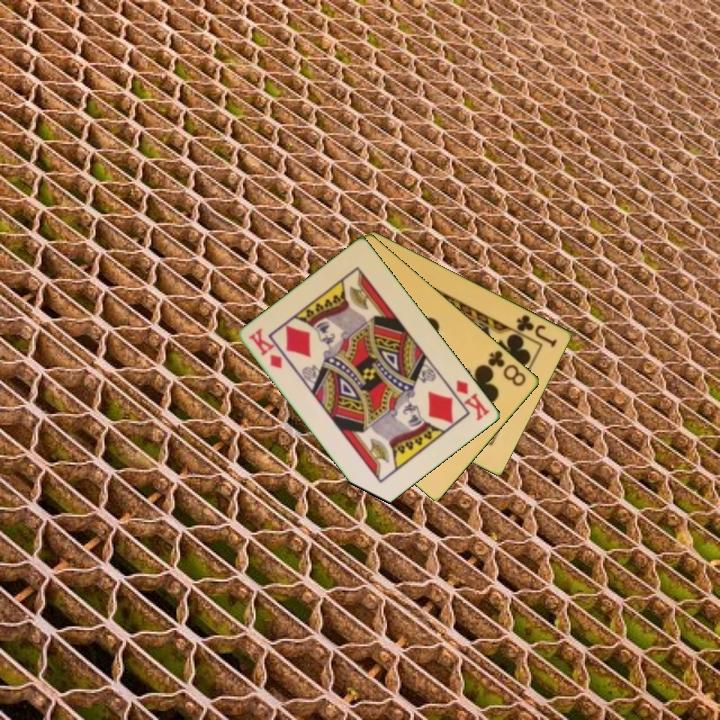8c: (485, 347, 529, 389)
Jc: (513, 311, 561, 350)
Kd: (245, 325, 286, 372), (453, 376, 493, 424)
